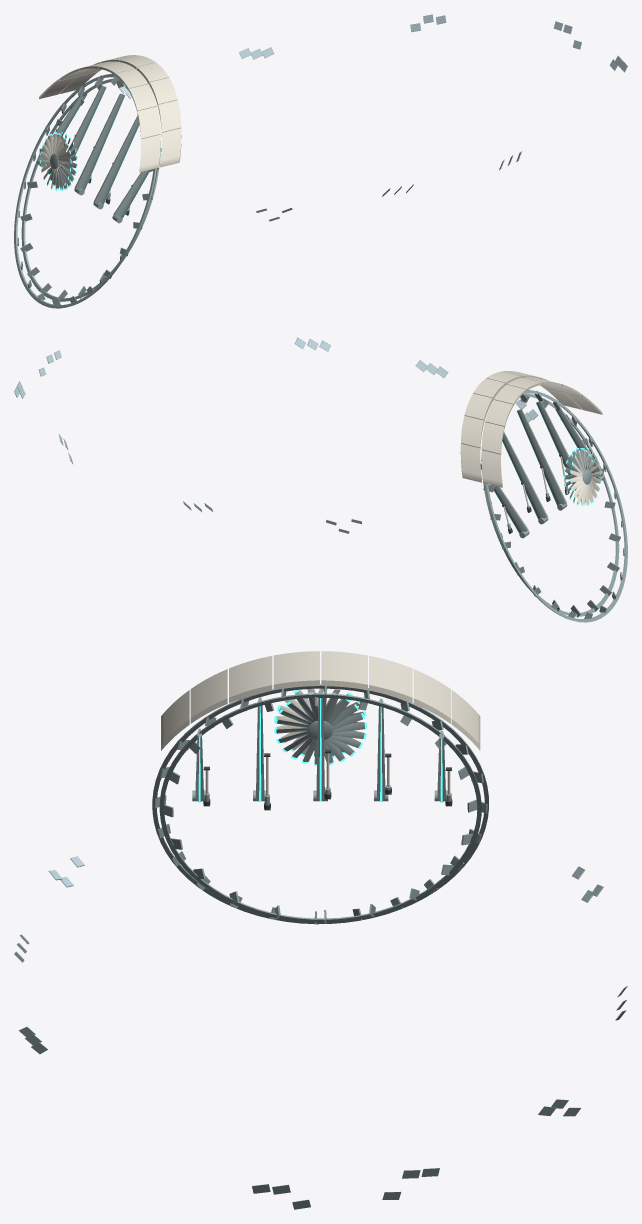
File: Weather_Lung_Intake_Vanes.glb
3 views of the same model, one above another, from view 1: azimuth 30°, elevation 25°; view 2: azimuth 150°, elevation 25°; view 3: azimuth 270°, elevation 25° (orthographic). The views are drawn at different scales.
Parts seen in each view (by area): view 1: Guide_Ring_A_band, Guide_Ring_B_band, Turbine_Rotor_A_blades, Movable_intake_vane_02, Movable_intake_vane_01, Guide_Ring_A, Gill_plate_15, Guide_Ring_B, Gill_plate_14, Gill_plate_13, Gill_plate_12, Movable_intake_vane_03 (+6 smaller); view 2: Guide_Ring_A_band, Guide_Ring_B_band, Turbine_Rotor_A_blades, Movable_intake_vane_02, Movable_intake_vane_03, Guide_Ring_A, Gill_plate_01, Gill_plate_00, Guide_Ring_B, Gill_plate_02, Gill_plate_03, Turbine_Rotor_B_blades (+7 smaller); view 3: Guide_Ring_B_band, Turbine_Rotor_B_blades, Guide_Ring_A_band, Guide_Ring_B, Guide_Ring_A, Gill_plate_07, Gill_plate_09, Gill_plate_05, Turbine_Rotor_A_blades, Gill_plate_11, Gill_plate_03, Gill_plate_13.
Boxes of the visible parts, x1,y1,x2,y2 form: Guide_Ring_A_band: (14, 73, 156, 308); Guide_Ring_B_band: (21, 78, 160, 301); Turbine_Rotor_A_blades: (40, 134, 70, 189); Movable_intake_vane_02: (74, 93, 124, 190); Movable_intake_vane_01: (94, 115, 139, 204); Guide_Ring_A: (17, 75, 158, 305); Gill_plate_15: (160, 128, 181, 167); Guide_Ring_B: (20, 80, 124, 302); Gill_plate_14: (139, 134, 160, 172); Gill_plate_13: (158, 100, 181, 132); Gill_plate_12: (137, 106, 160, 139); Movable_intake_vane_03: (68, 85, 106, 161); Guide_Ring_A_band: (485, 390, 627, 622); Guide_Ring_B_band: (483, 393, 619, 616); Turbine_Rotor_A_blades: (571, 449, 600, 504); Movable_intake_vane_02: (517, 409, 566, 505); Movable_intake_vane_03: (502, 432, 547, 519); Guide_Ring_A: (481, 390, 624, 618); Gill_plate_01: (460, 443, 481, 482); Gill_plate_00: (481, 450, 502, 487); Guide_Ring_B: (491, 395, 620, 617); Gill_plate_02: (481, 422, 504, 454); Gill_plate_03: (461, 416, 483, 448); Turbine_Rotor_B_blades: (565, 449, 594, 504); Guide_Ring_B_band: (159, 693, 481, 922); Turbine_Rotor_B_blades: (276, 698, 364, 764); Guide_Ring_A_band: (152, 684, 488, 924); Guide_Ring_B: (164, 693, 477, 923); Guide_Ring_A: (154, 686, 487, 924); Gill_plate_07: (321, 665, 367, 690); Gill_plate_09: (273, 665, 319, 690); Gill_plate_05: (369, 670, 412, 703); Turbine_Rotor_A_blades: (276, 688, 364, 756); Gill_plate_11: (229, 670, 272, 703); Gill_plate_03: (413, 683, 450, 723); Gill_plate_13: (190, 683, 227, 723).
Bounding box in the file's own units: 24819 × 8705 × 14461.
